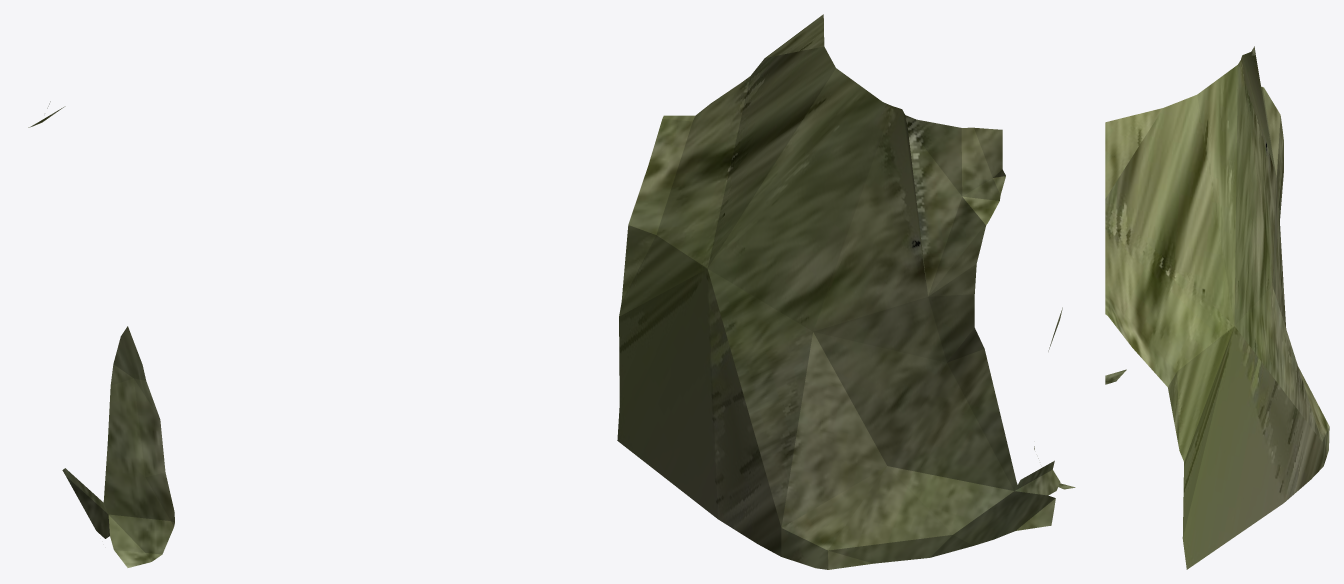
3 views of the same model, side by side, from view 1: azimuth 30°, elevation 25°; view 2: azimuth 150°, elevation 25°; view 3: azimuth 270°, elevation 25° (orthographic). The views are drawn at different scales.
Size of the model in its own units: 2.95 by 2.95 by 1.58.
3 materials, 3 textured.
